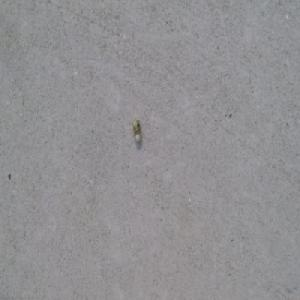BoltNutSet: (132, 119, 142, 143)
